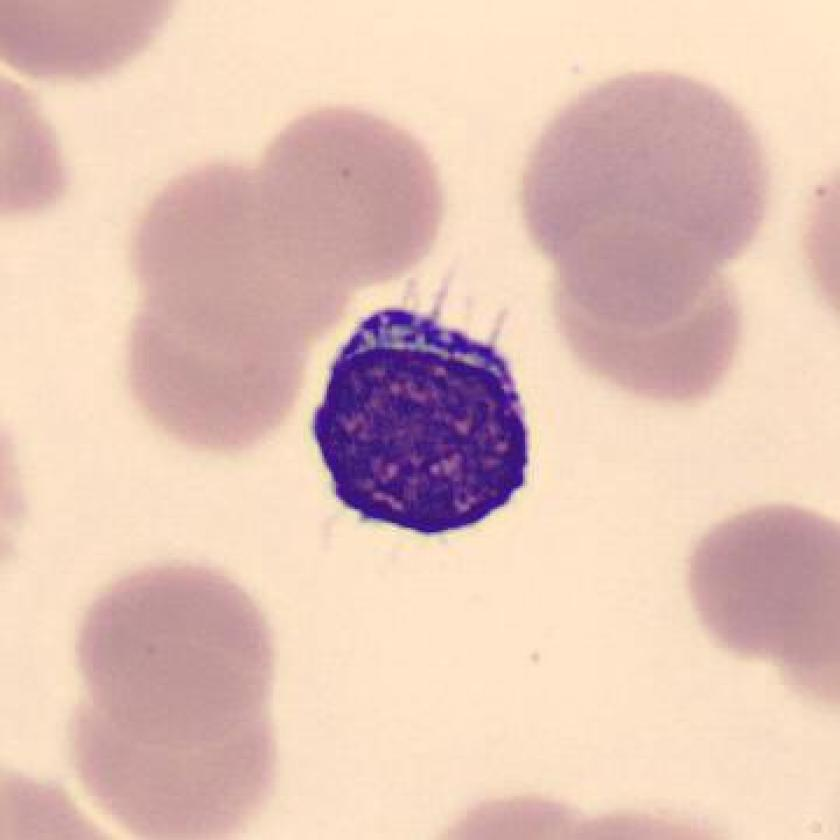lymphocyte: (290, 288, 552, 552)
